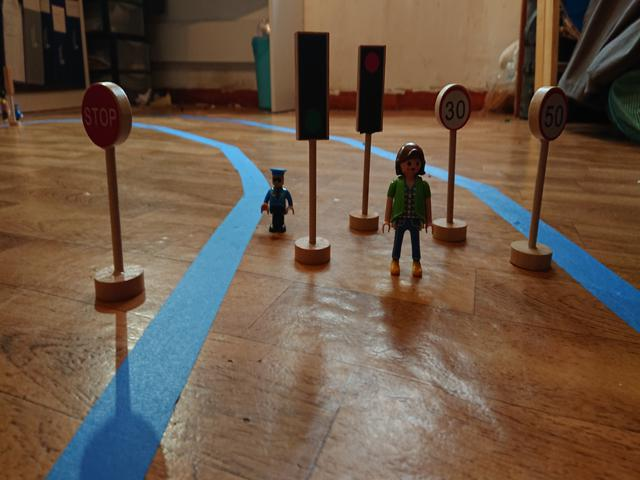30 speed sign: (434, 84, 476, 132)
50 speed sign: (534, 86, 569, 141)
green light: (295, 35, 325, 138)
person: (381, 141, 435, 278), (257, 167, 295, 237)
red light: (360, 45, 381, 131)
stop sign: (80, 83, 123, 150)
